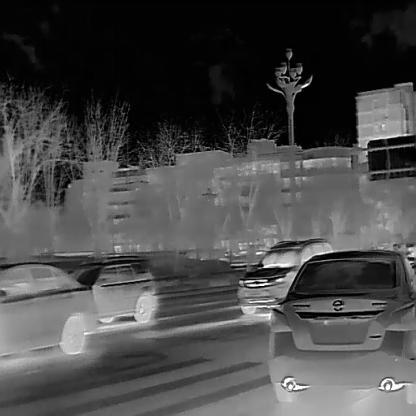car: (269, 250, 415, 406), (0, 259, 98, 357), (236, 238, 333, 315), (75, 253, 157, 324)
